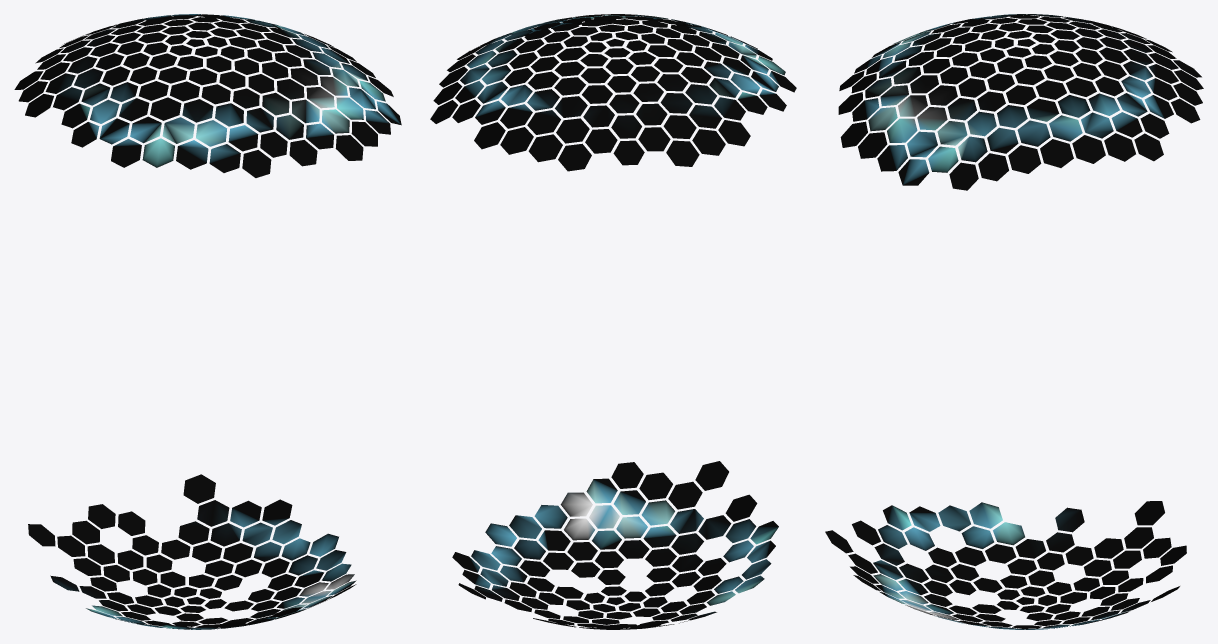
The model's file is uv_titan.fbx.
3 views of the same model, side by side, from view 1: azimuth 30°, elevation 25°; view 2: azimuth 150°, elevation 25°; view 3: azimuth 270°, elevation 25° (orthographic).
Parts seen in each view (by area): view 1: uv_titan; view 2: uv_titan; view 3: uv_titan.
Boxes of the visible parts, x1,y1,x2,y2 form: uv_titan: (14,14,401,629); uv_titan: (430,14,796,629); uv_titan: (825,14,1203,629).
Size of the model in its own units: 118 by 199 by 123.
